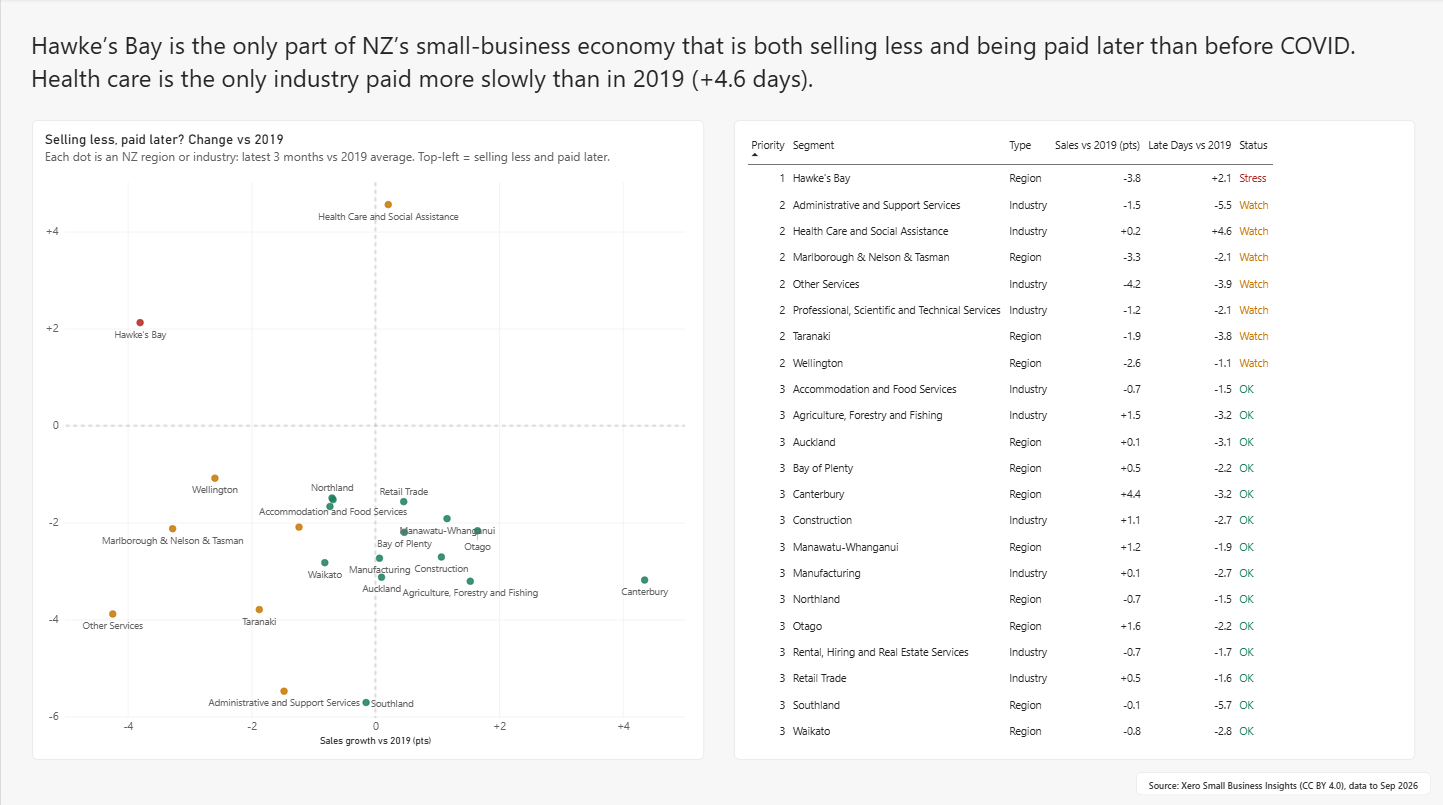

The dashboard page shown, as its layout file describes it:
{"tool":"powerbi","page":{"name":"Cash-flow Stress","canvas":[1920,1080],"ordinal":3},"visuals":[{"type":"scatterChart","title":"Selling less, paid later? Change vs 2019","fields":{"Category":["DimSegment.SegmentName"],"X":["_Measures.Sales Change vs 2019"],"Y":["_Measures.Late Days Change vs 2019"]},"box":[40.9,161.9,894.3,850.6],"z":0},{"type":"tableEx","fields":{"Values":["_Measures.Cash Flow Status Sort","DimSegment.SegmentName","DimSegment.SegmentType","_Measures.Sales Change vs 2019","_Measures.Late Days Change vs 2019","_Measures.Cash Flow Status"]},"box":[974.6,161.9,906,850.6],"z":1000},{"type":"cardVisual","fields":{"Data":["_Measures.Source Note"]},"box":[1509.6,1029.5,392.4,31.9],"z":2000},{"type":"textbox","box":[40.2,40.2,1841,104],"z":3000}]}

Visuals, with their boxes in screenshot pixels (x1, y1, x2, y2), scaled from the page's 1920x1080 canvas onto the 1443x805 screenshot:
"Selling less, paid later? Change vs 2019" scatterChart: 31/121/703/755
tableEx - _Measures.Cash Flow Status Sort x DimSegment.SegmentName: 732/121/1413/755
cardVisual - _Measures.Source Note: 1135/767/1429/791
textbox: 30/30/1414/107
